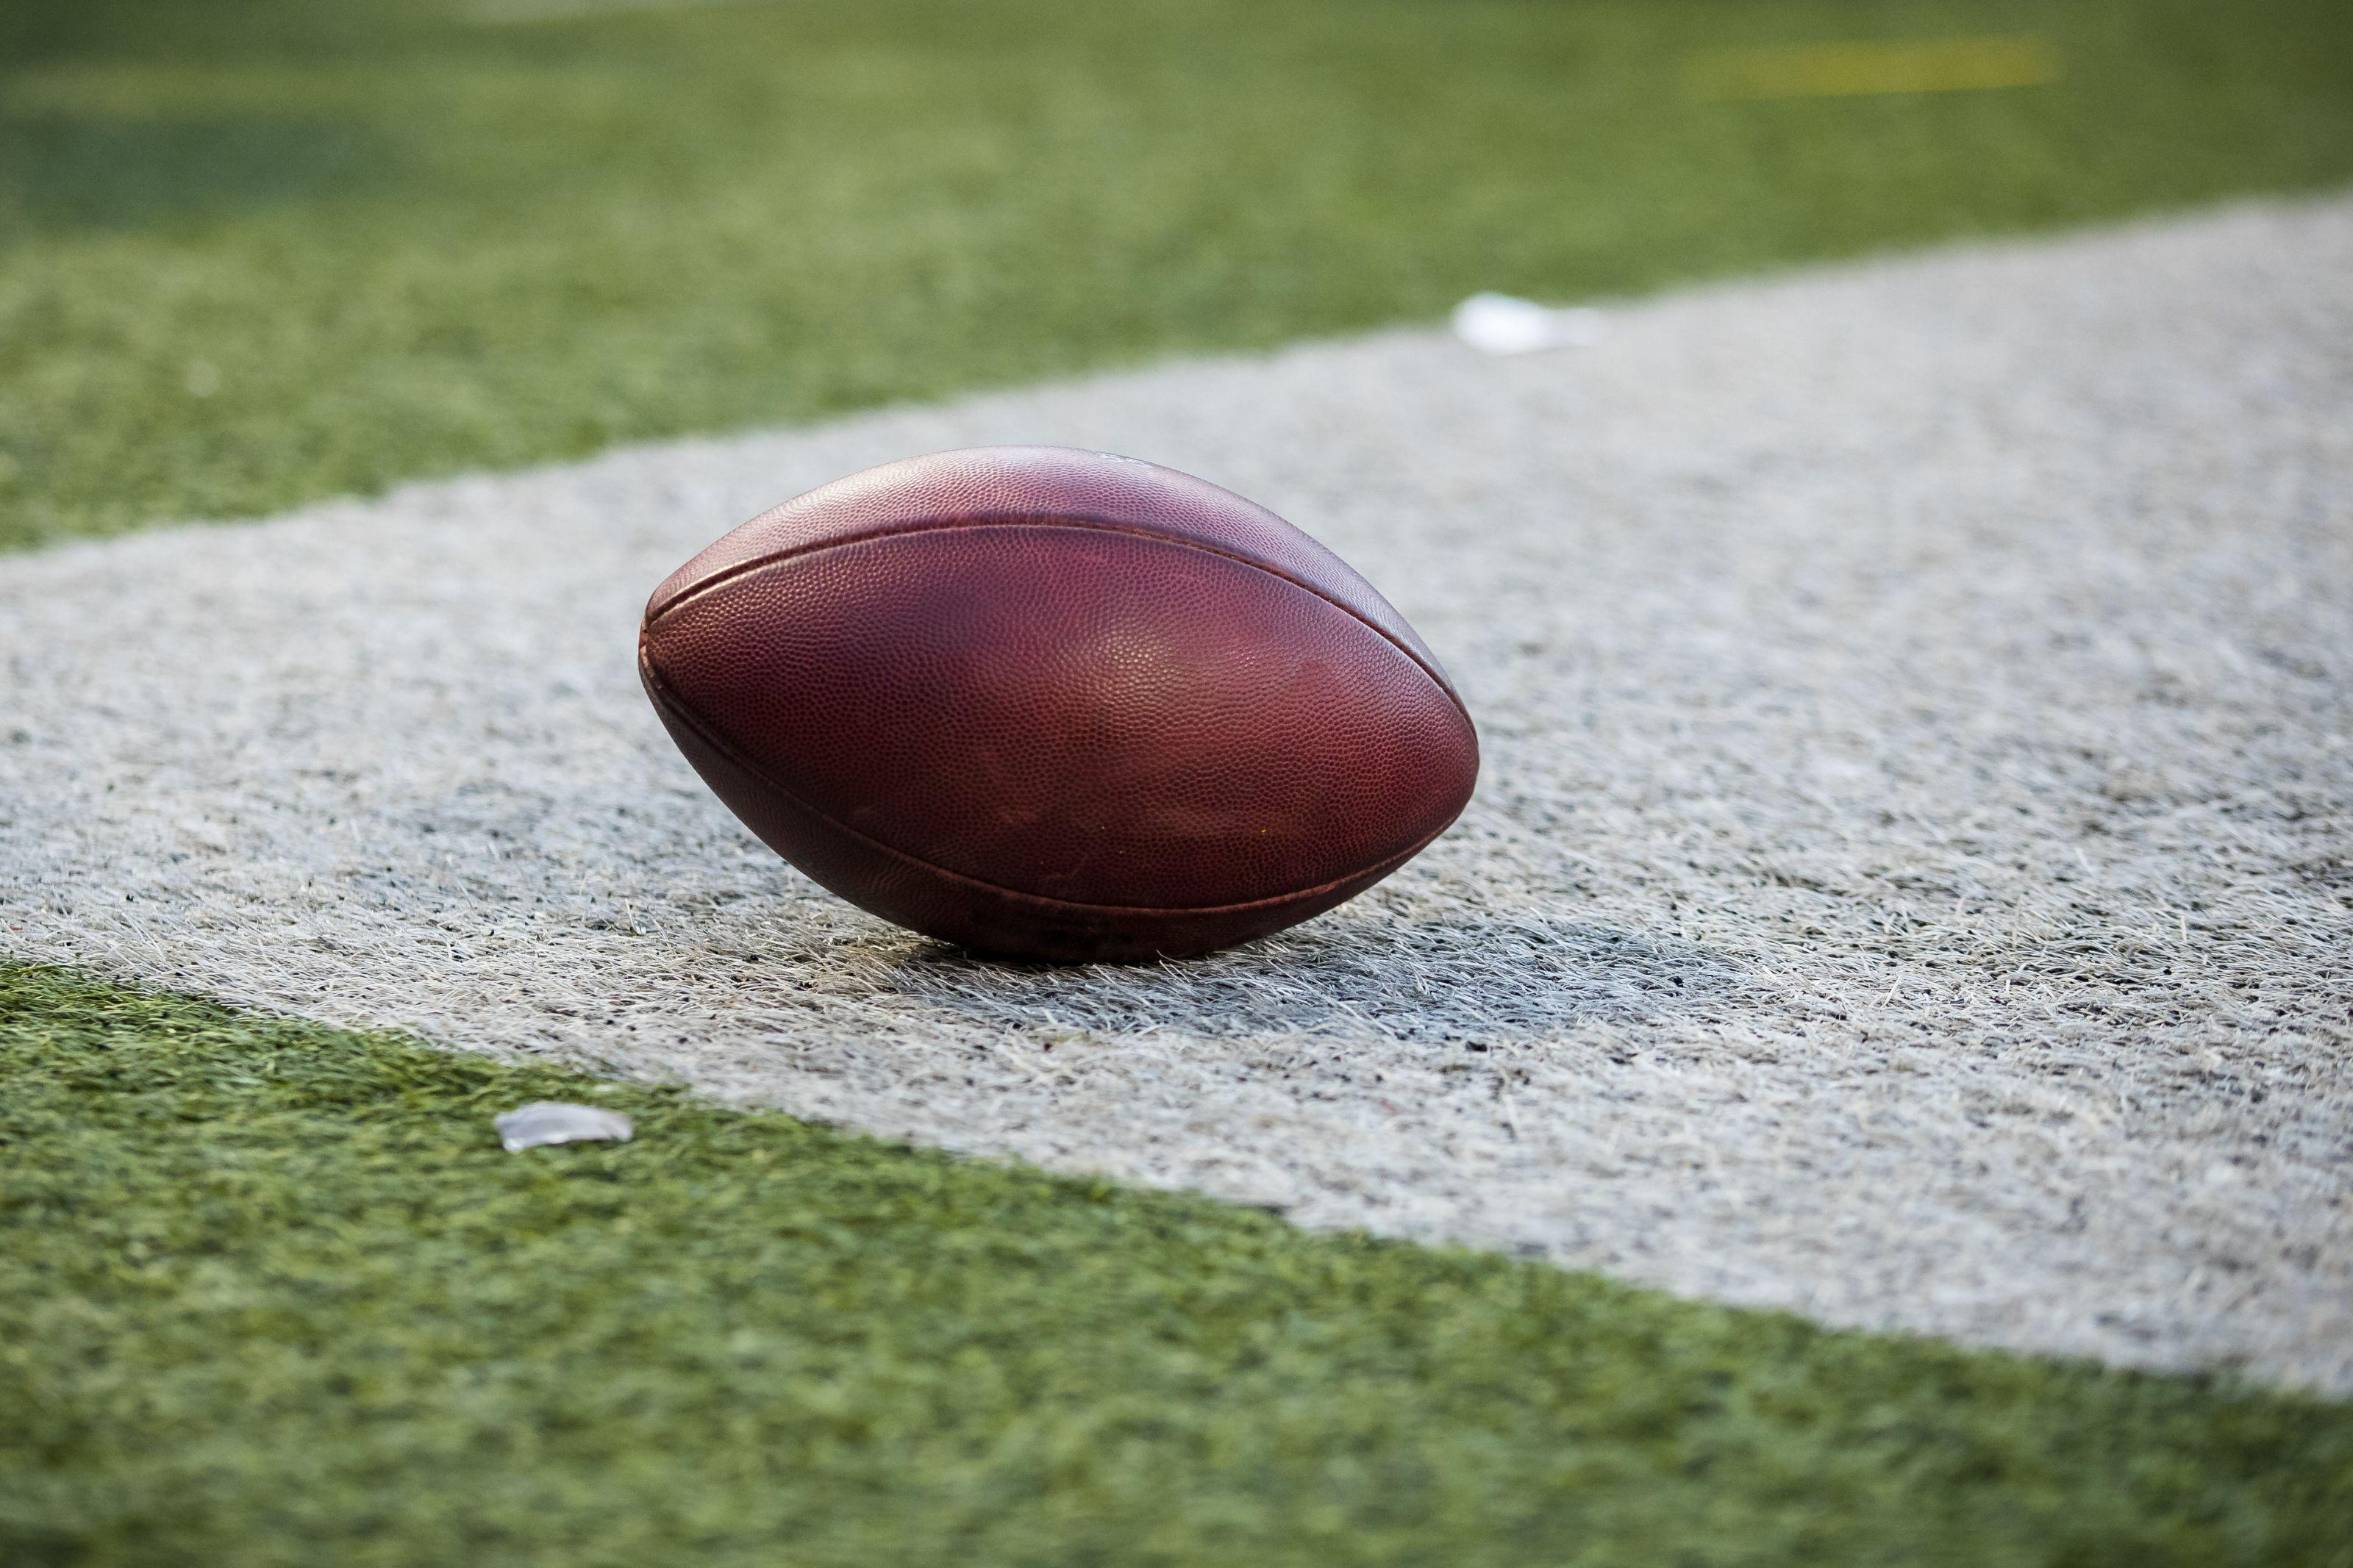Sports-Ball: (639, 446, 1479, 961)
